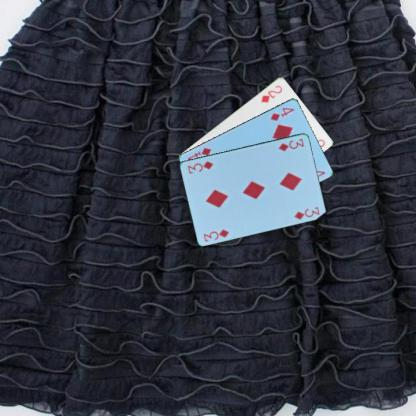2d: (258, 82, 283, 104)
3d: (201, 226, 231, 243), (276, 136, 305, 152)
4d: (268, 104, 295, 122)
